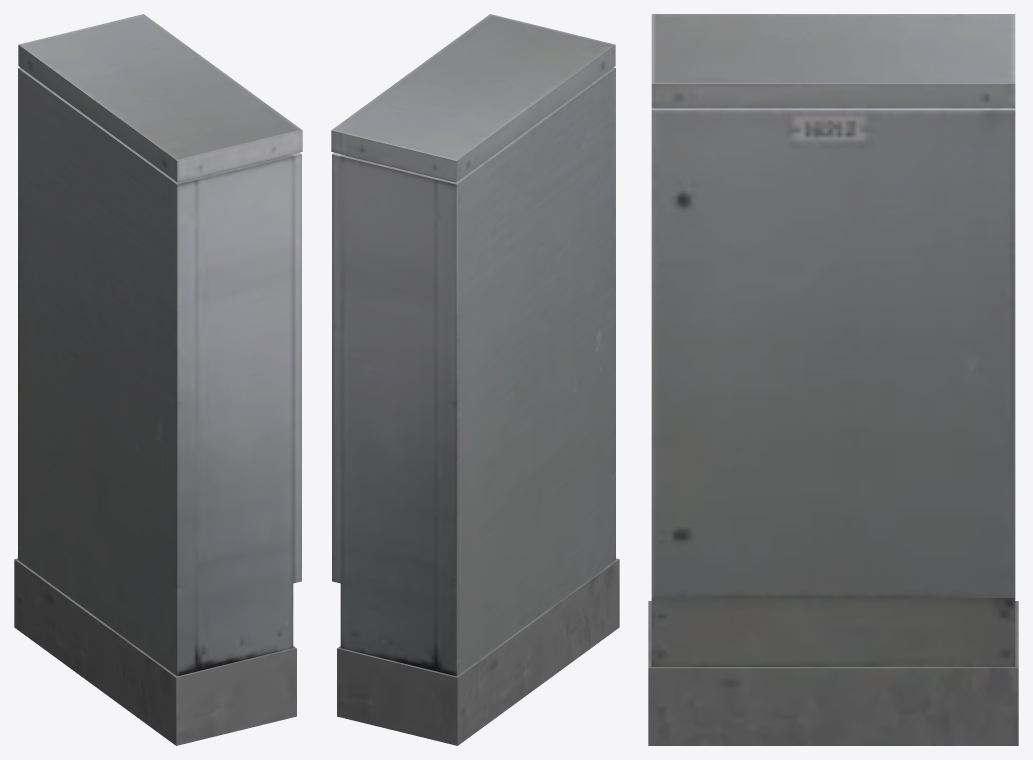
The model's file is elecbox.glb.
The picture shows the model from 3 angles, left to right: view 1: azimuth 30°, elevation 25°; view 2: azimuth 150°, elevation 25°; view 3: azimuth 270°, elevation 25°; orthographic projection. The views are drawn at different scales.
Visible parts, largest first — view 1: ElectricBox; view 2: ElectricBox; view 3: ElectricBox.
Boxes of the visible parts, x1,y1,x2,y2 form: ElectricBox: (14, 14, 302, 745); ElectricBox: (331, 14, 619, 745); ElectricBox: (648, 14, 1018, 745).
Size of the model in its own units: 0.3694 by 1.61 by 0.8101.
Materials: 1 (1 with a texture image).
